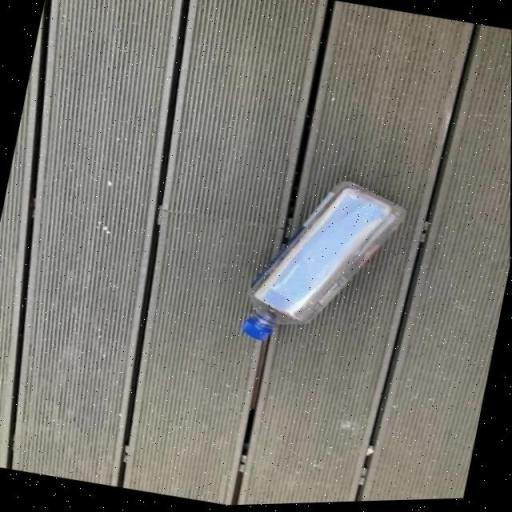plastic: (237, 164, 412, 367)
